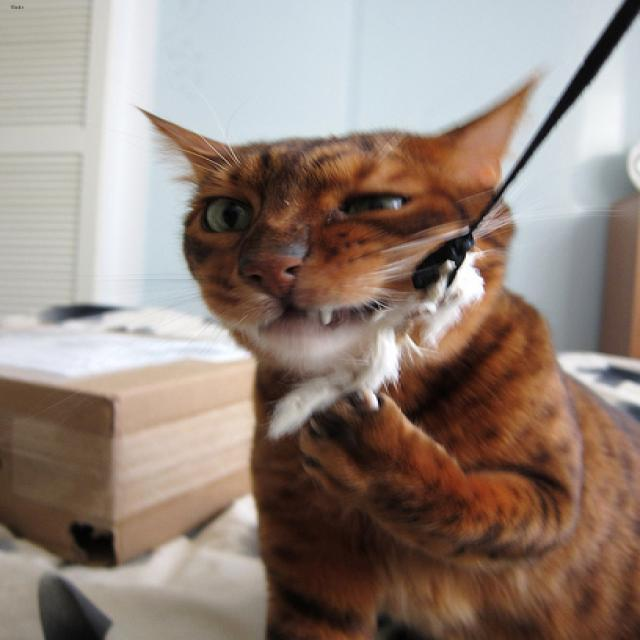Bengal: (124, 85, 544, 377)
